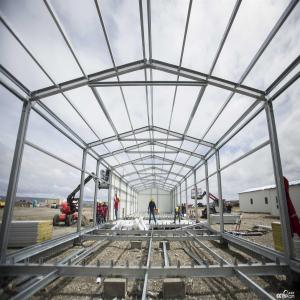white: (97, 200, 100, 206), (230, 203, 232, 206)
yellow: (100, 201, 103, 207), (104, 201, 107, 206), (152, 198, 155, 203), (177, 207, 179, 213), (119, 197, 121, 202), (183, 203, 184, 206), (185, 203, 186, 206)
